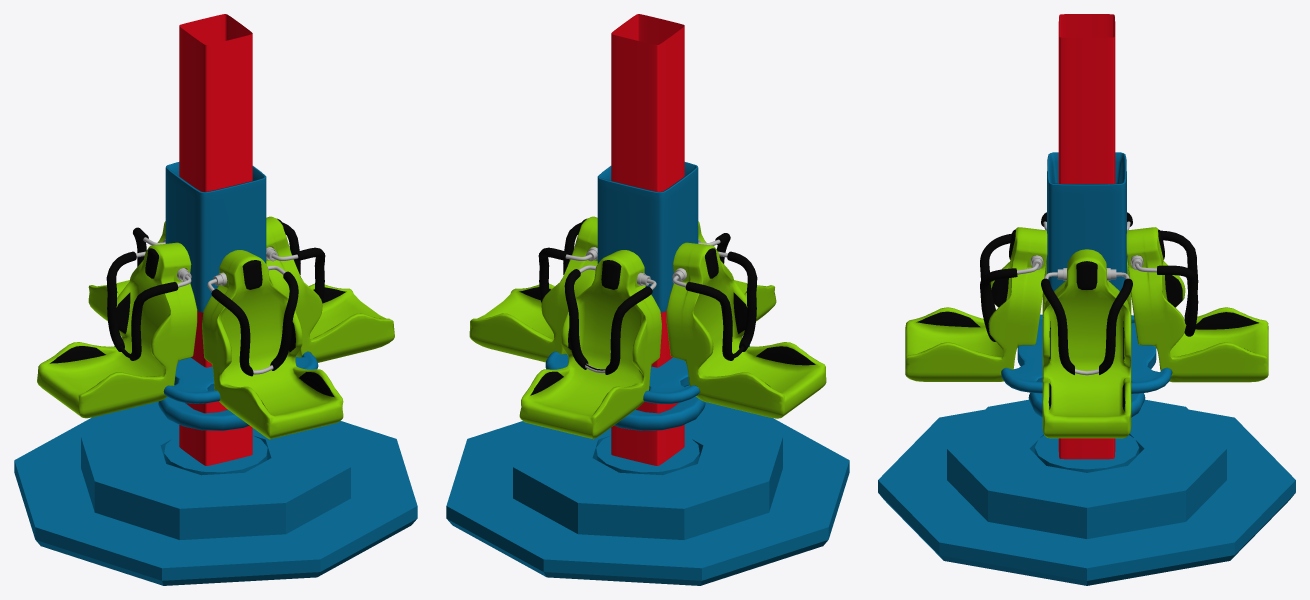
Rendered from FreeFallRide.fbx.
3 views of the same model, side by side, from view 1: azimuth 30°, elevation 25°; view 2: azimuth 150°, elevation 25°; view 3: azimuth 270°, elevation 25° (orthographic).
Visible parts, largest first — view 1: FreeFallRideSitModel (×4), FreeFallBaseFotBottomModel, FreeFallBaseFotTopModel, FreeFallBasePole, FreeFallSitSupportTopModel, FreeFallRideSitGuardModel (×3), FreeFallSitSupportBottomModel, FreeFallBaseAnchorModel; view 2: FreeFallRideSitModel (×4), FreeFallBaseFotBottomModel, FreeFallBaseFotTopModel, FreeFallBasePole, FreeFallSitSupportTopModel, FreeFallRideSitGuardModel (×3), FreeFallSitSupportBottomModel, FreeFallBaseAnchorModel; view 3: FreeFallRideSitModel (×3), FreeFallBaseFotBottomModel, FreeFallBaseFotTopModel, FreeFallBasePole, FreeFallSitSupportTopModel, FreeFallRideSitGuardModel (×3), FreeFallSitSupportBottomModel, FreeFallBaseAnchorModel.
Part boxes in pixels (<box>): FreeFallRideSitModel (×4): <box>37,216,394,439</box>; FreeFallBaseFotBottomModel: <box>14,407,417,585</box>; FreeFallBaseFotTopModel: <box>81,401,350,539</box>; FreeFallBasePole: <box>179,14,252,465</box>; FreeFallSitSupportTopModel: <box>165,162,266,312</box>; FreeFallRideSitGuardModel (×3): <box>106,222,325,376</box>; FreeFallSitSupportBottomModel: <box>114,346,318,430</box>; FreeFallBaseAnchorModel: <box>164,435,267,475</box>; FreeFallRideSitModel (×4): <box>469,216,826,439</box>; FreeFallBaseFotBottomModel: <box>446,408,849,585</box>; FreeFallBaseFotTopModel: <box>513,402,782,539</box>; FreeFallBasePole: <box>611,14,684,465</box>; FreeFallSitSupportTopModel: <box>597,162,698,312</box>; FreeFallRideSitGuardModel (×3): <box>538,222,757,374</box>; FreeFallSitSupportBottomModel: <box>545,345,749,430</box>; FreeFallBaseAnchorModel: <box>596,435,699,475</box>; FreeFallRideSitModel (×3): <box>905,227,1268,438</box>; FreeFallBaseFotBottomModel: <box>878,409,1295,585</box>; FreeFallBaseFotTopModel: <box>947,399,1226,538</box>; FreeFallBasePole: <box>1058,14,1115,459</box>; FreeFallSitSupportTopModel: <box>1047,152,1126,291</box>; FreeFallRideSitGuardModel (×3): <box>980,230,1198,375</box>; FreeFallSitSupportBottomModel: <box>1001,314,1171,417</box>; FreeFallBaseAnchorModel: <box>1034,435,1139,472</box>.
Size of the model in its own units: 974 by 1221 by 974.
